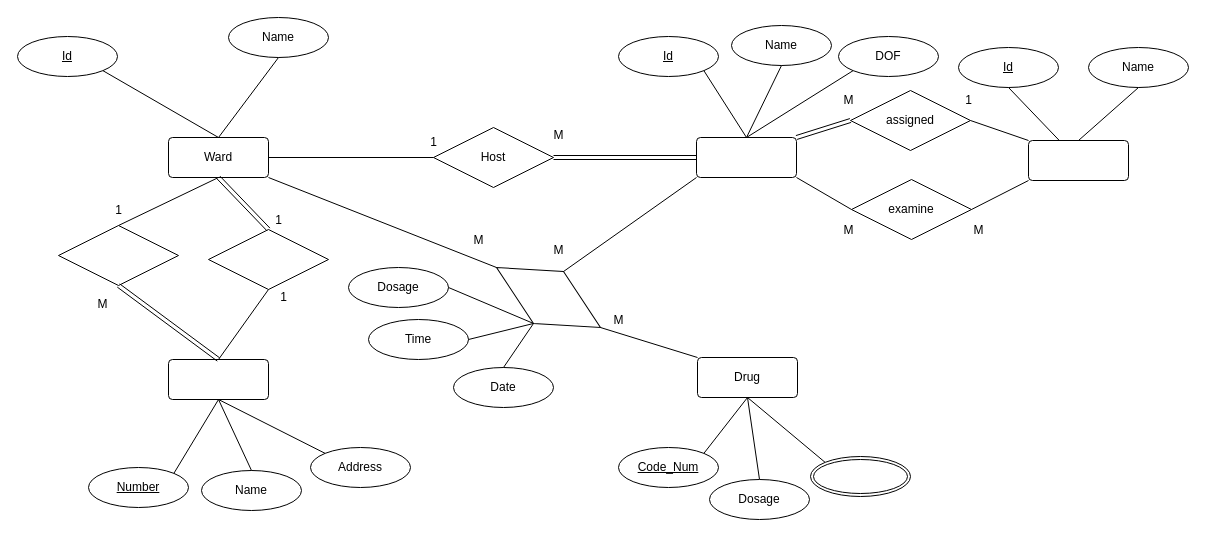
The diagram is 1206 pixels wide and 537 high, and some of its shapes have lost their labels. The centre of each missing label's shape, as x and y in pixels:
Brand_Name: pixel 860 476
Consultant: pixel 1078 160
give: pixel 548 297
Nurse: pixel 218 379
Patient: pixel 746 157
Serve: pixel 118 255
supervise: pixel 268 259
